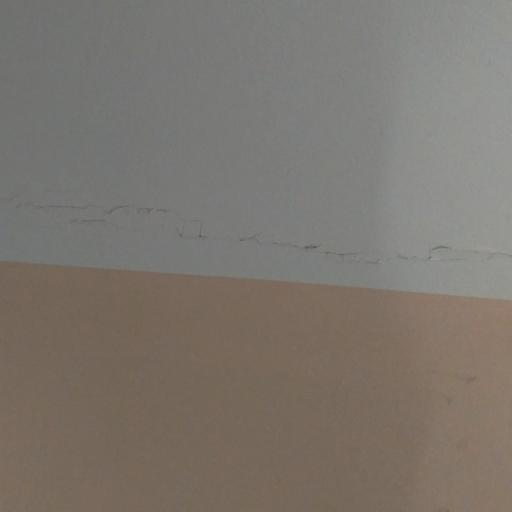minor_crack: (3, 174, 512, 287)
